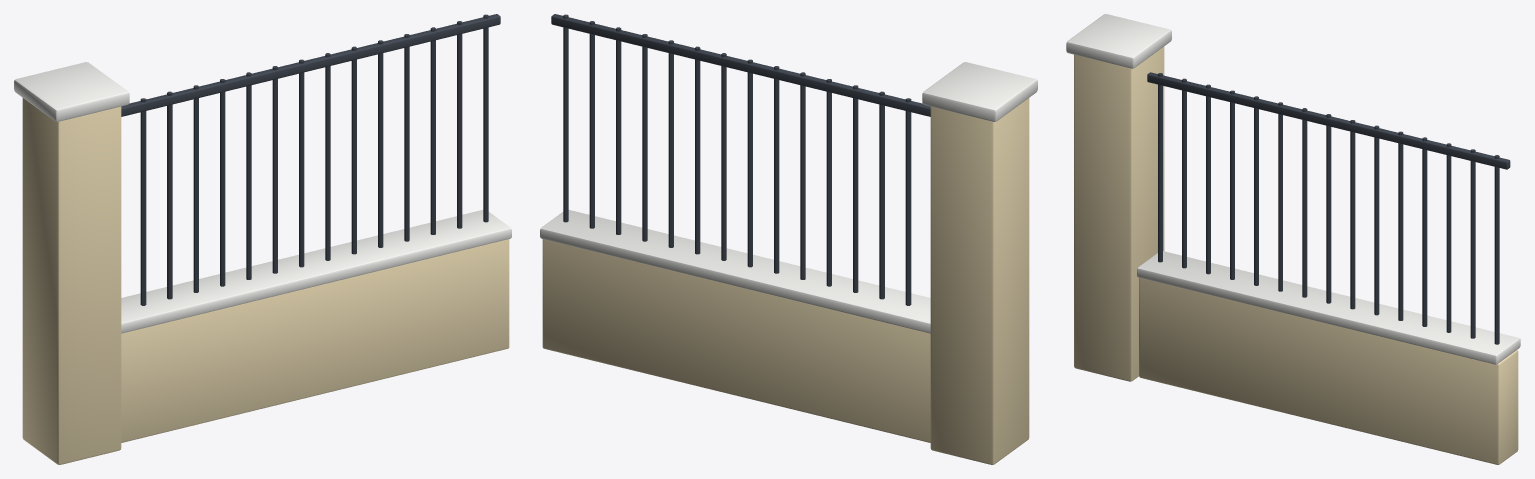
Rendered from cerca_mureta_grade_2m.glb.
3 renders of one model, left to right at view 1: azimuth 30°, elevation 25°; view 2: azimuth 150°, elevation 25°; view 3: azimuth 330°, elevation 25°, orthographic. The views are drawn at different scales.
Visible parts, largest first — view 1: cerca_mureta_grade_2m; view 2: cerca_mureta_grade_2m; view 3: cerca_mureta_grade_2m.
Part boxes in pixels (box(x1,y1,x2,y2)): cerca_mureta_grade_2m: box(14, 14, 511, 464); cerca_mureta_grade_2m: box(540, 14, 1037, 464); cerca_mureta_grade_2m: box(1066, 14, 1520, 464).
Size of the model in its own units: 2.17 by 1.61 by 0.35.
1 material, 1 textured.
